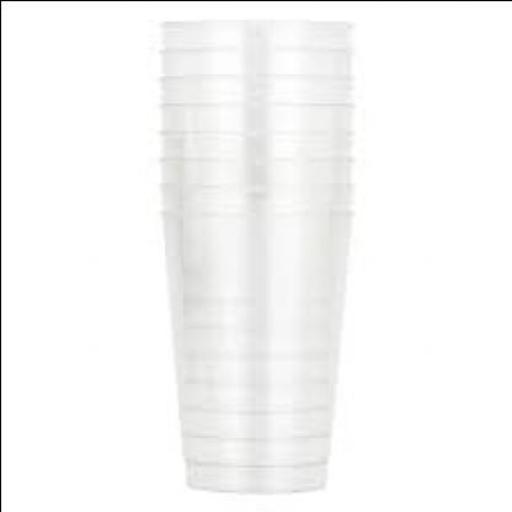plastic: (156, 16, 348, 489), (157, 207, 346, 490)
